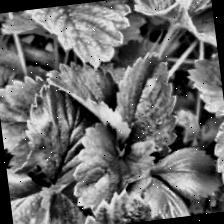Powdery Mildew Leaf: (43, 55, 134, 158)
